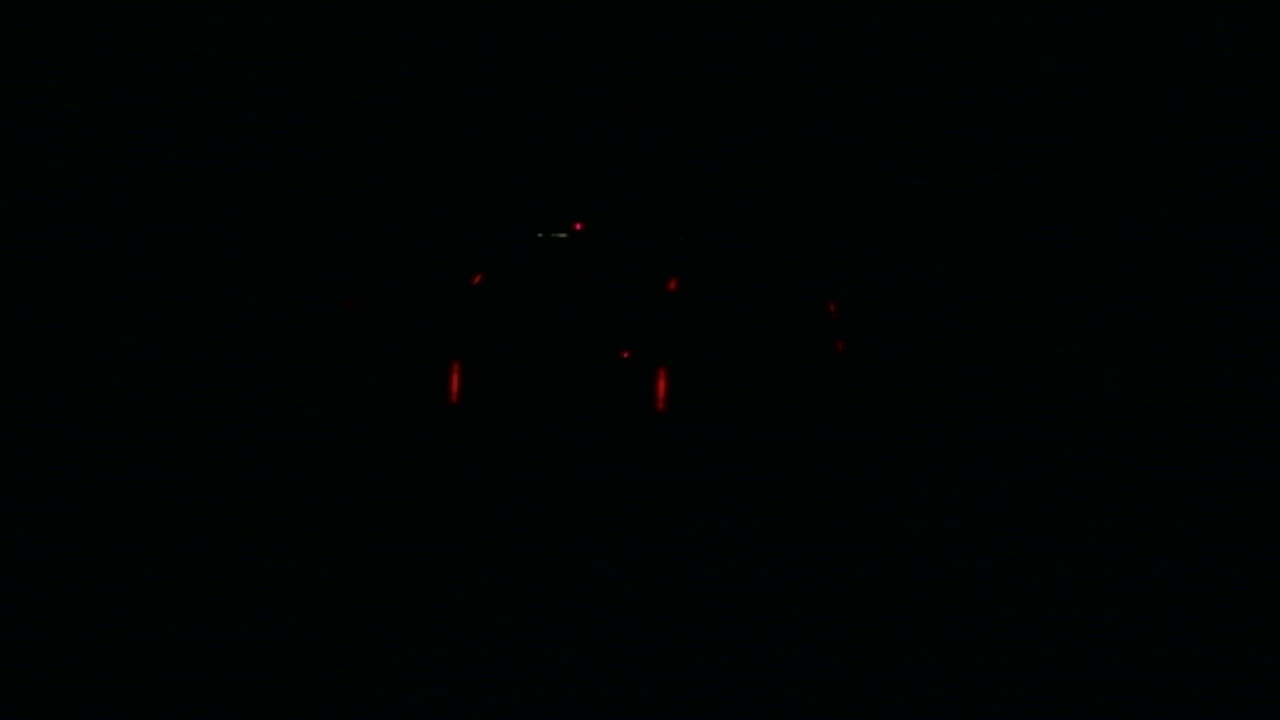lamp: (656, 358, 670, 410), (447, 360, 454, 412)
pair2: (447, 361, 667, 412)
